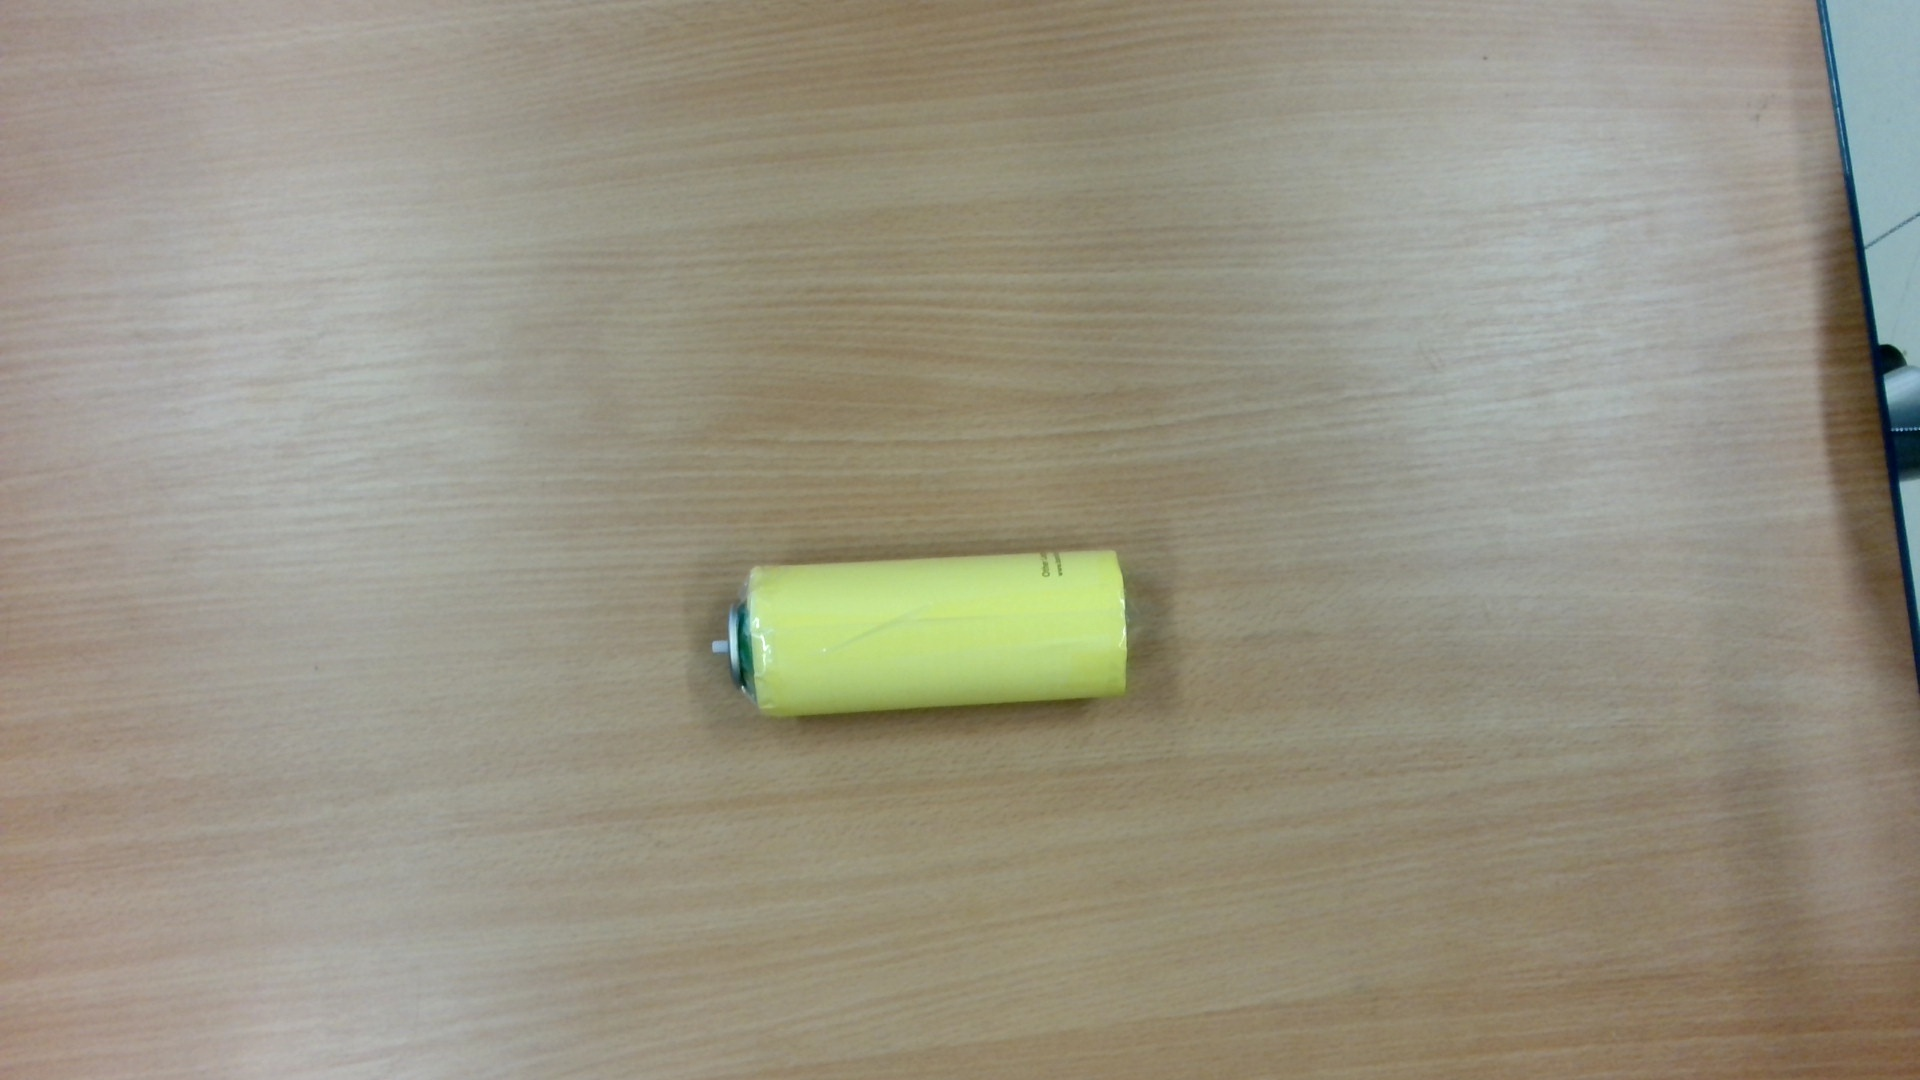Cylinder: (696, 534, 1168, 735)
